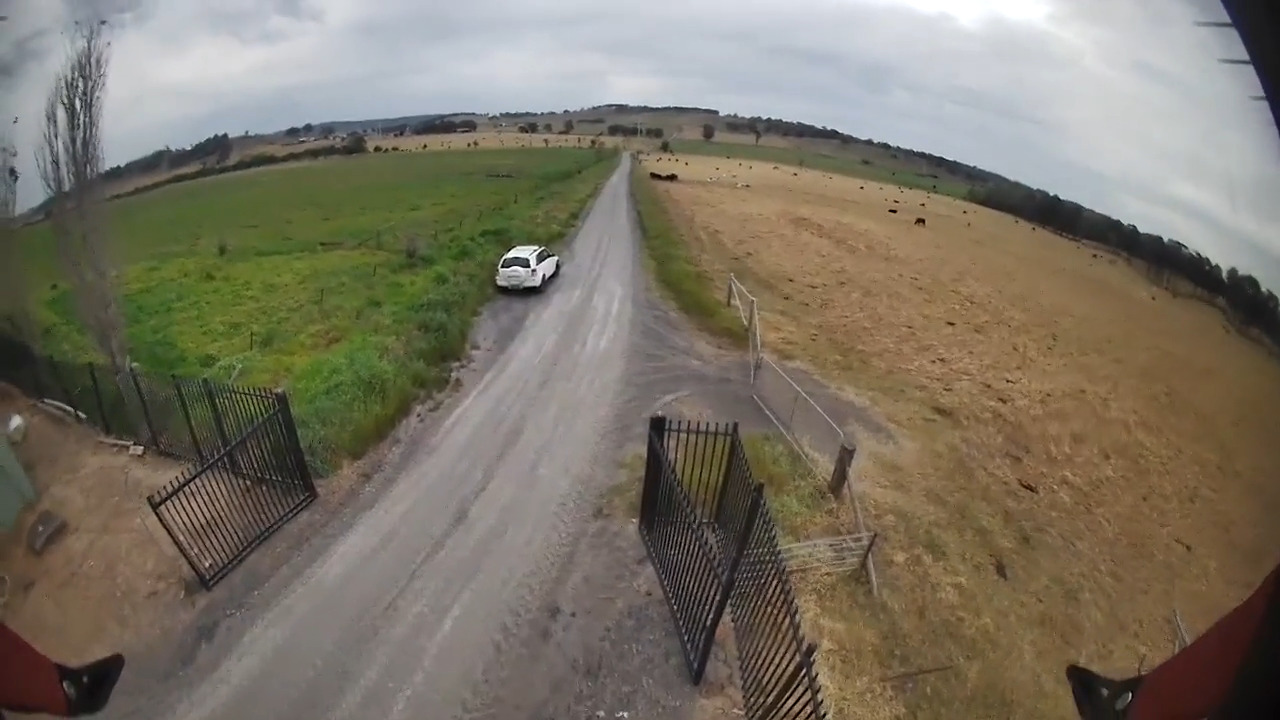Car: (495, 247, 558, 291)
